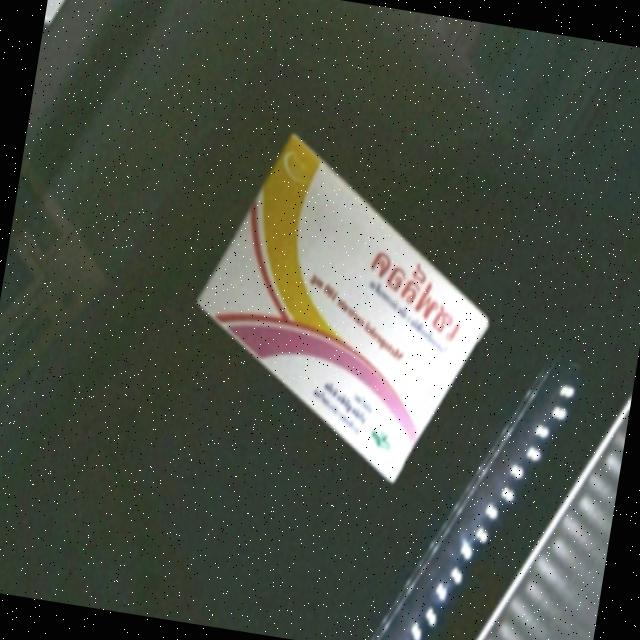sefloc: (169, 127, 509, 491)
